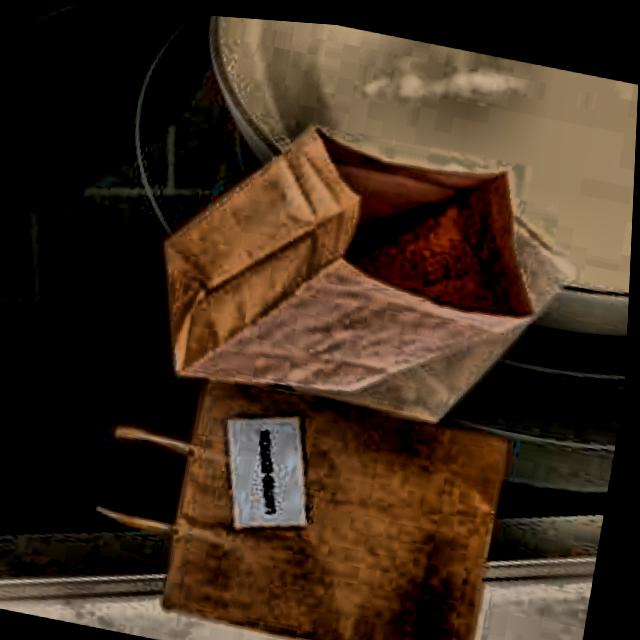Paper-bag: (127, 88, 553, 446), (51, 342, 532, 640)
